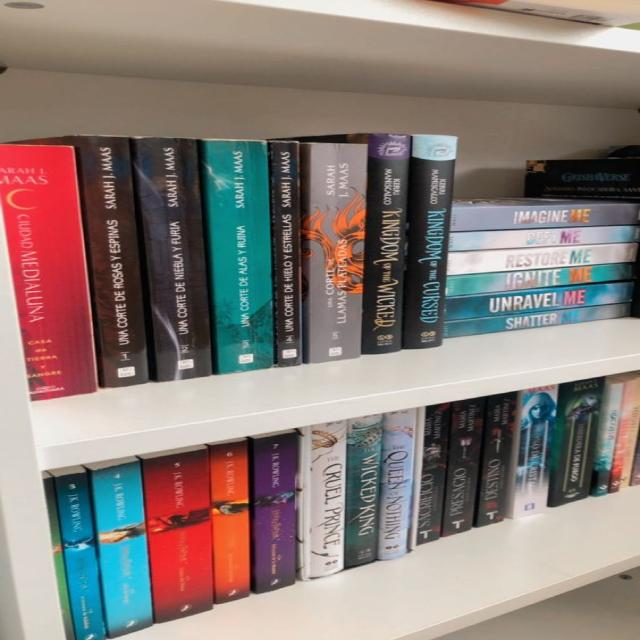book: (0, 143, 99, 401), (132, 137, 214, 381), (79, 135, 150, 388), (205, 140, 274, 374), (309, 142, 368, 364), (144, 449, 212, 624), (403, 135, 457, 349), (91, 460, 155, 638), (362, 133, 413, 355), (55, 472, 106, 640), (445, 281, 634, 322), (303, 420, 348, 582), (272, 141, 303, 368), (255, 432, 298, 594), (209, 440, 251, 604), (443, 303, 632, 338), (446, 262, 634, 297), (554, 377, 604, 507), (445, 244, 638, 276), (443, 396, 486, 537), (381, 408, 419, 561), (515, 385, 558, 519), (475, 390, 516, 527), (347, 414, 383, 569), (449, 204, 639, 231), (446, 226, 640, 251), (418, 402, 448, 546), (596, 383, 624, 497), (610, 380, 636, 494)
